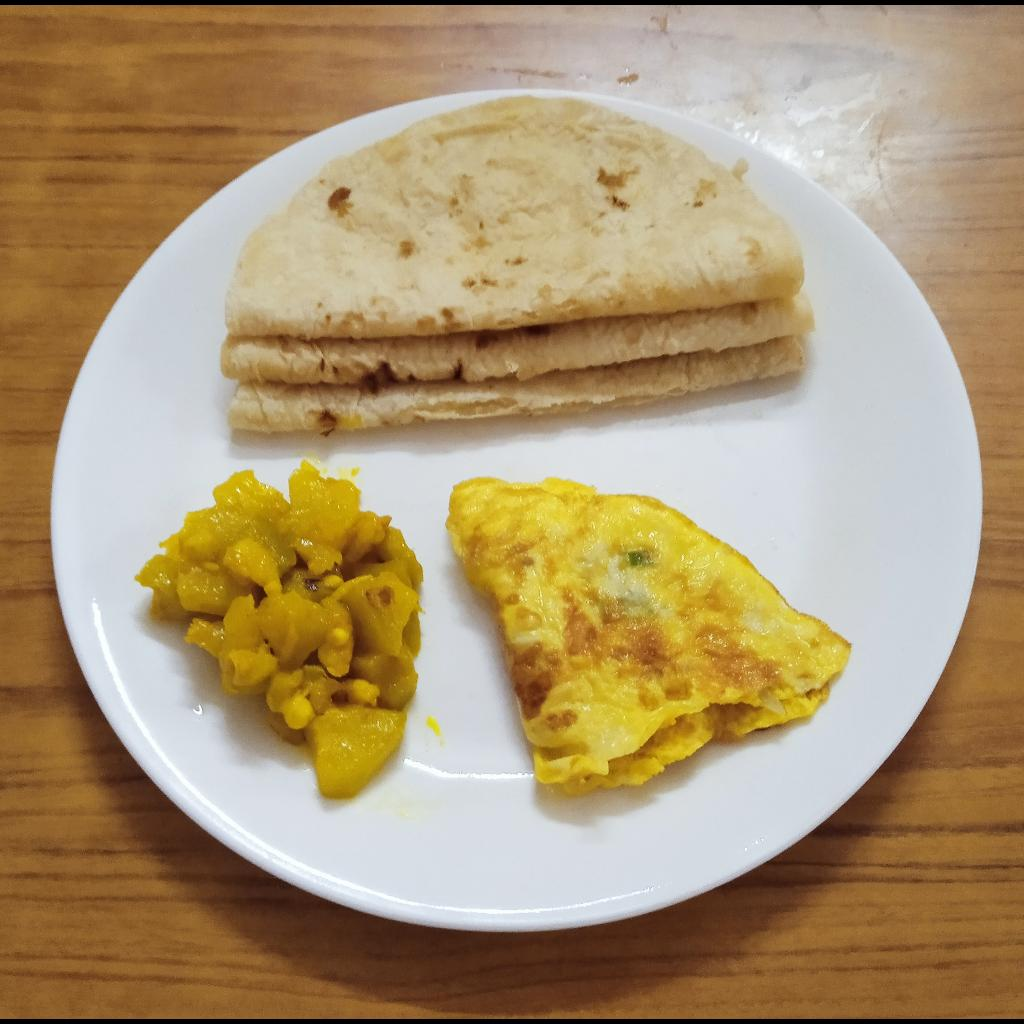egg-poached: (443, 476, 851, 793)
potol: (136, 458, 427, 800)
ruti: (221, 97, 817, 438)
